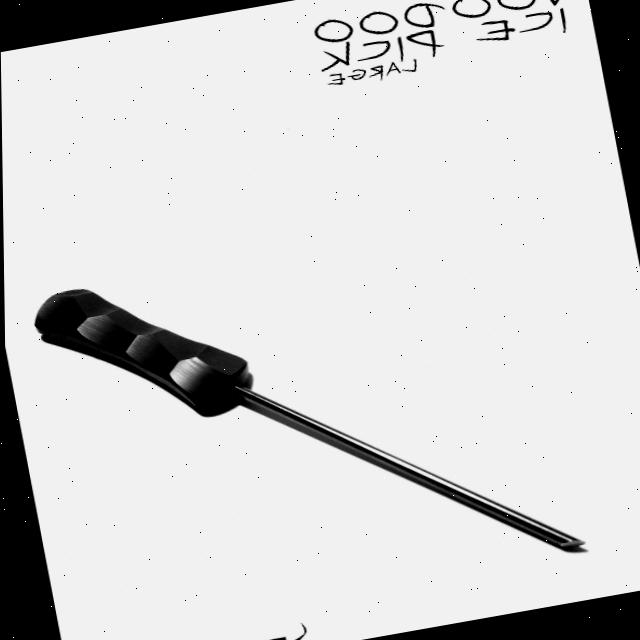ice pick: (25, 208, 588, 640)
